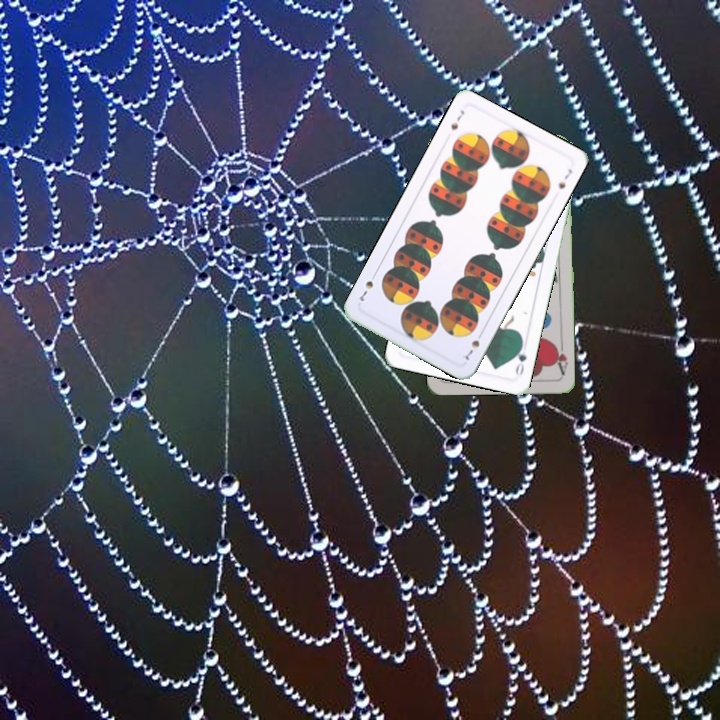GO: (511, 338, 529, 378)
HA: (550, 338, 570, 377)
S7: (461, 327, 486, 363), (447, 106, 467, 132)
